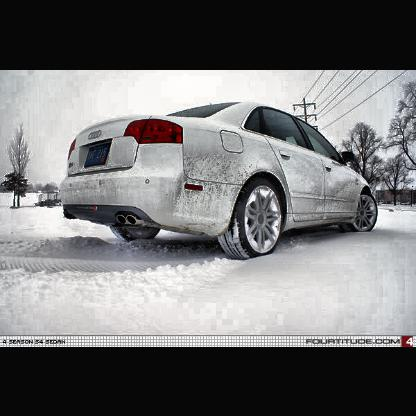Audi S4 Sedan 2007: (61, 100, 380, 260)
